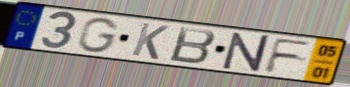3: (39, 10, 79, 52)
B: (167, 25, 219, 66)
F: (262, 37, 314, 75)
G: (76, 17, 122, 55)
K: (129, 21, 171, 62)
N: (221, 31, 271, 73)
